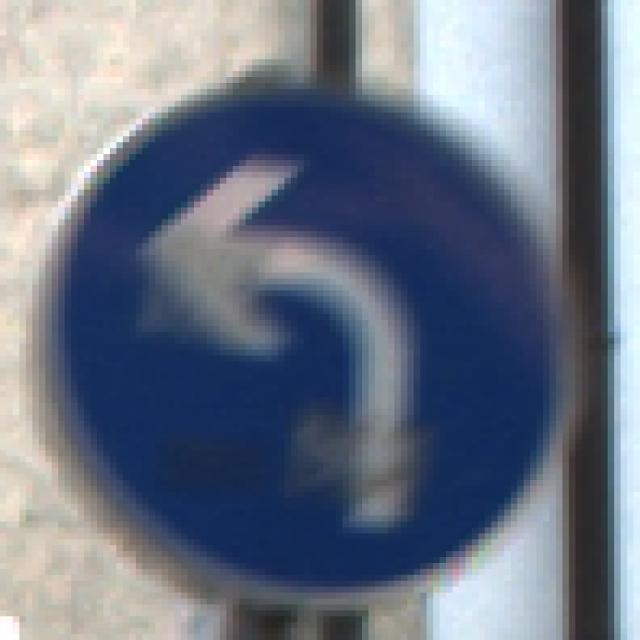compulsary turn left ahead: (33, 69, 597, 607)
